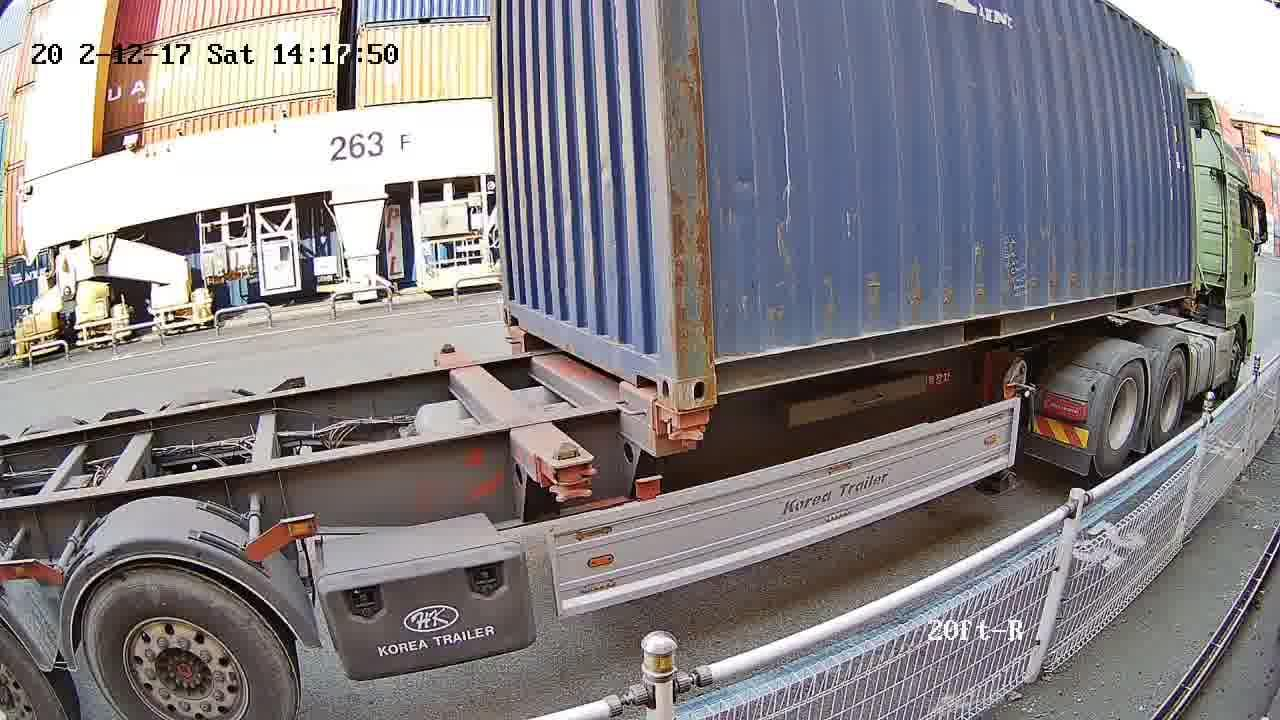Cone: (656, 405, 716, 454)
Hole_L: (671, 313, 766, 409), (504, 282, 534, 332)
Hole_R: (624, 319, 676, 402)
Tire: (79, 569, 291, 719), (1096, 365, 1149, 479), (1152, 349, 1186, 447)
